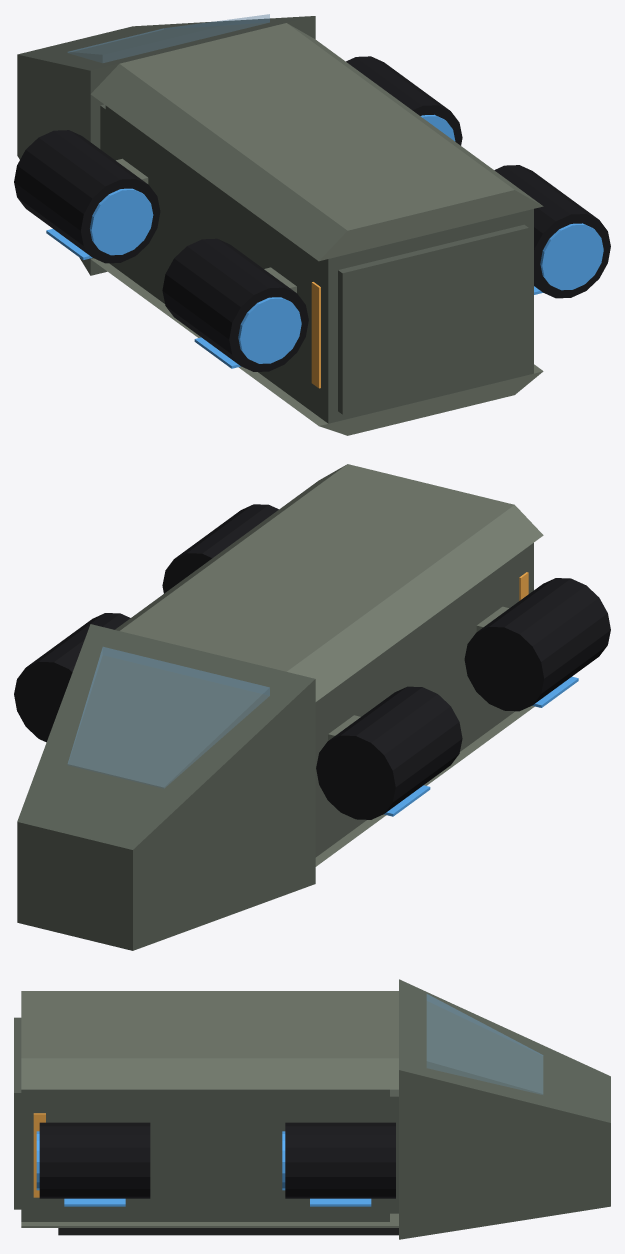
File: ship_XS_DARTER.obj
3 renders of one model, top to bottom at view 1: azimuth 30°, elevation 25°; view 2: azimuth 150°, elevation 25°; view 3: azimuth 270°, elevation 25°, orthographic. The views are drawn at different scales.
Parts seen in each view (by area): view 1: XS_DARTER_Armor, XS_DARTER_Hull-col, XS_DARTER_Ramp-col, XS_DARTER_Engines, XS_DARTER_EngineGlow, XS_DARTER_Glass-col, XS_DARTER_Lights; view 2: XS_DARTER_Hull-col, XS_DARTER_Armor, XS_DARTER_Engines, XS_DARTER_Glass-col, XS_DARTER_EngineGlow; view 3: XS_DARTER_Hull-col, XS_DARTER_Armor, XS_DARTER_Engines, XS_DARTER_Glass-col, XS_DARTER_Trim, XS_DARTER_EngineGlow, XS_DARTER_Ramp-col, XS_DARTER_Lights.
Part boxes in pixels (x1,y1,x2,y2): XS_DARTER_Armor: (90, 23, 543, 435); XS_DARTER_Hull-col: (17, 16, 533, 423); XS_DARTER_Ramp-col: (338, 224, 528, 414); XS_DARTER_Engines: (14, 56, 610, 371); XS_DARTER_EngineGlow: (46, 114, 603, 368); XS_DARTER_Glass-col: (68, 14, 269, 62); XS_DARTER_Lights: (311, 282, 320, 388); XS_DARTER_Hull-col: (17, 543, 533, 950); XS_DARTER_Armor: (115, 464, 543, 866); XS_DARTER_Engines: (14, 504, 610, 819); XS_DARTER_Glass-col: (68, 647, 269, 788); XS_DARTER_EngineGlow: (384, 676, 578, 816); XS_DARTER_Hull-col: (21, 979, 610, 1239); XS_DARTER_Armor: (21, 991, 398, 1227); XS_DARTER_Engines: (39, 1122, 395, 1198); XS_DARTER_Glass-col: (427, 994, 542, 1094); XS_DARTER_Trim: (58, 1228, 398, 1235); XS_DARTER_EngineGlow: (36, 1131, 371, 1206); XS_DARTER_Ramp-col: (14, 1017, 21, 1209); XS_DARTER_Lights: (33, 1113, 45, 1197).
Bounding box in the file's own units: 5.94 × 3.2 × 9.72.
